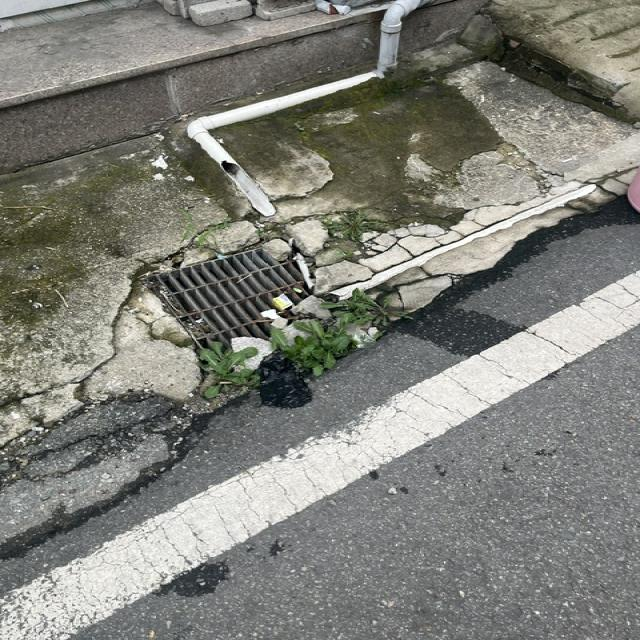drain_area: (156, 251, 306, 350)
drain_full: (145, 242, 357, 372)
